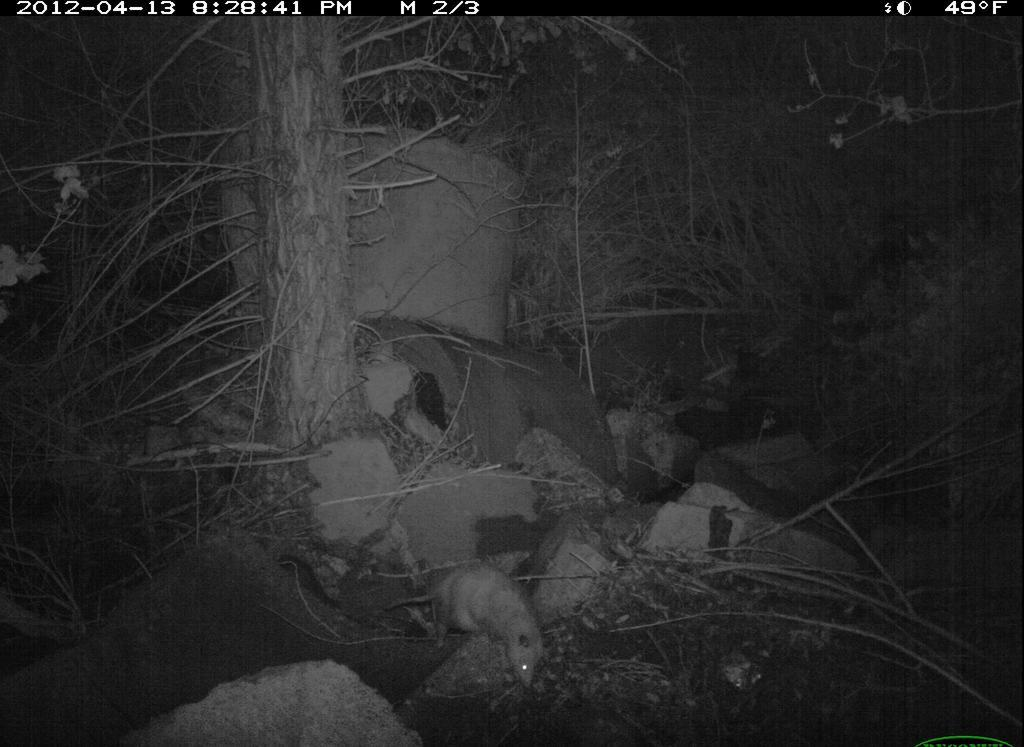opossum: (368, 547, 557, 715)
